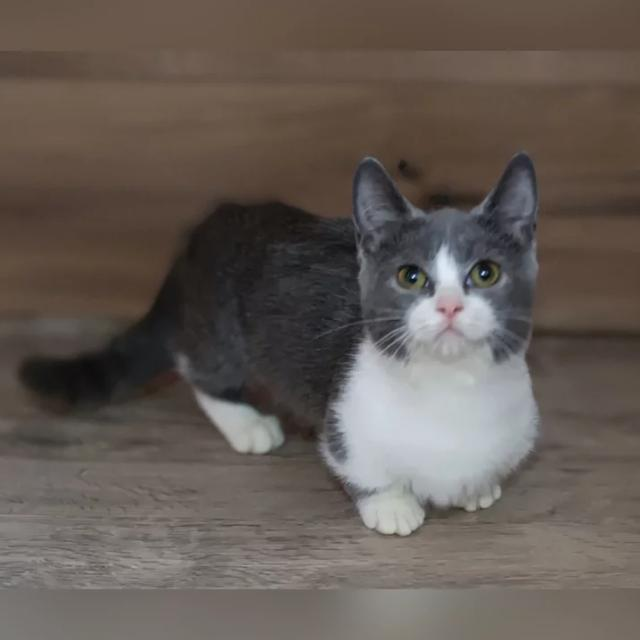Munchkin: (12, 147, 546, 538)
